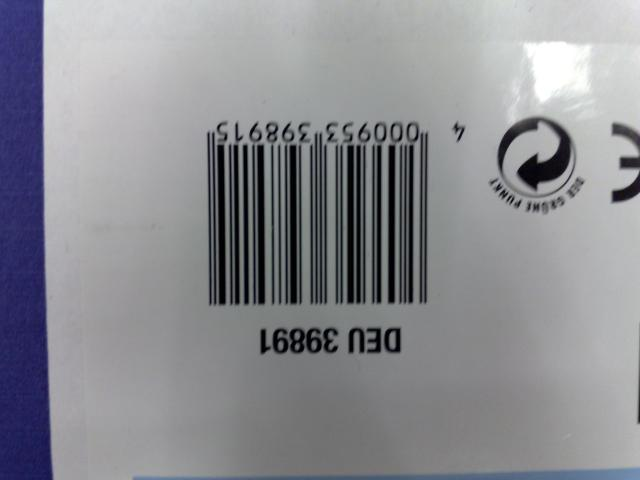Barkod: (204, 143, 430, 305)
